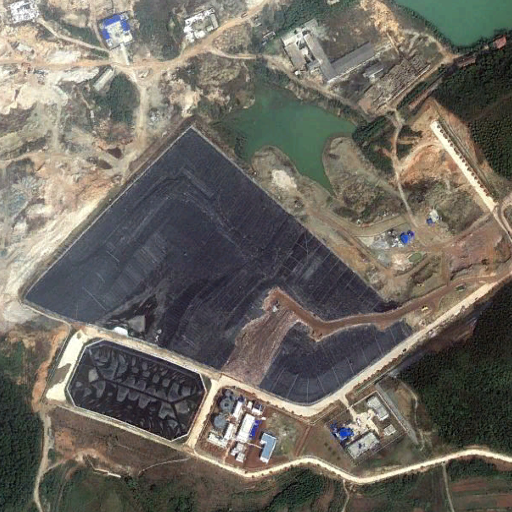lf: (18, 125, 411, 411)
